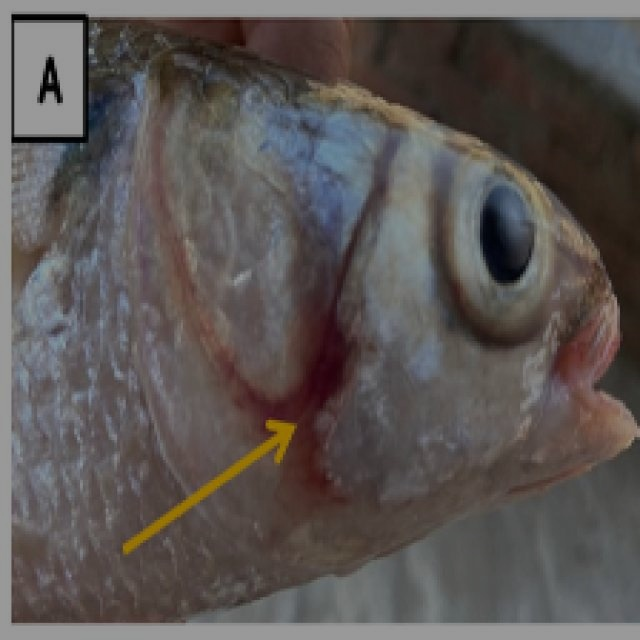Gill Disease: (73, 29, 632, 632)
